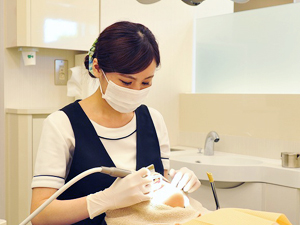mask: (101, 80, 152, 112)
